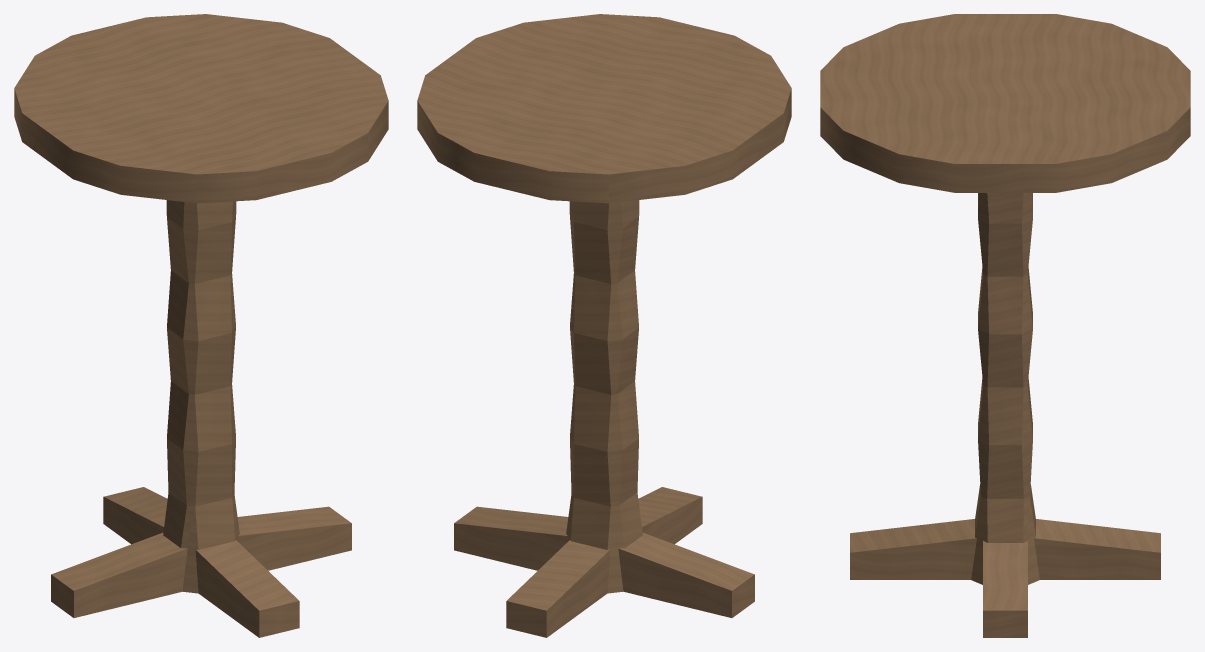
Rendered from 07_table_circular.glb.
3 renders of one model, left to right at view 1: azimuth 30°, elevation 25°; view 2: azimuth 150°, elevation 25°; view 3: azimuth 270°, elevation 25°, orthographic.
Visible parts, largest first — view 1: Intact; view 2: Intact; view 3: Intact.
Boxes of the visible parts, bbox=[...] form: Intact: bbox=[14, 14, 388, 637]; Intact: bbox=[417, 14, 791, 637]; Intact: bbox=[820, 14, 1190, 637].
Size of the model in its own units: 0.7193 by 1.08 by 0.75.
1 material, 1 textured.
